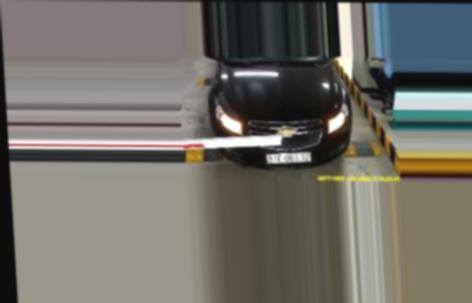License_Plate: (265, 150, 314, 166)
